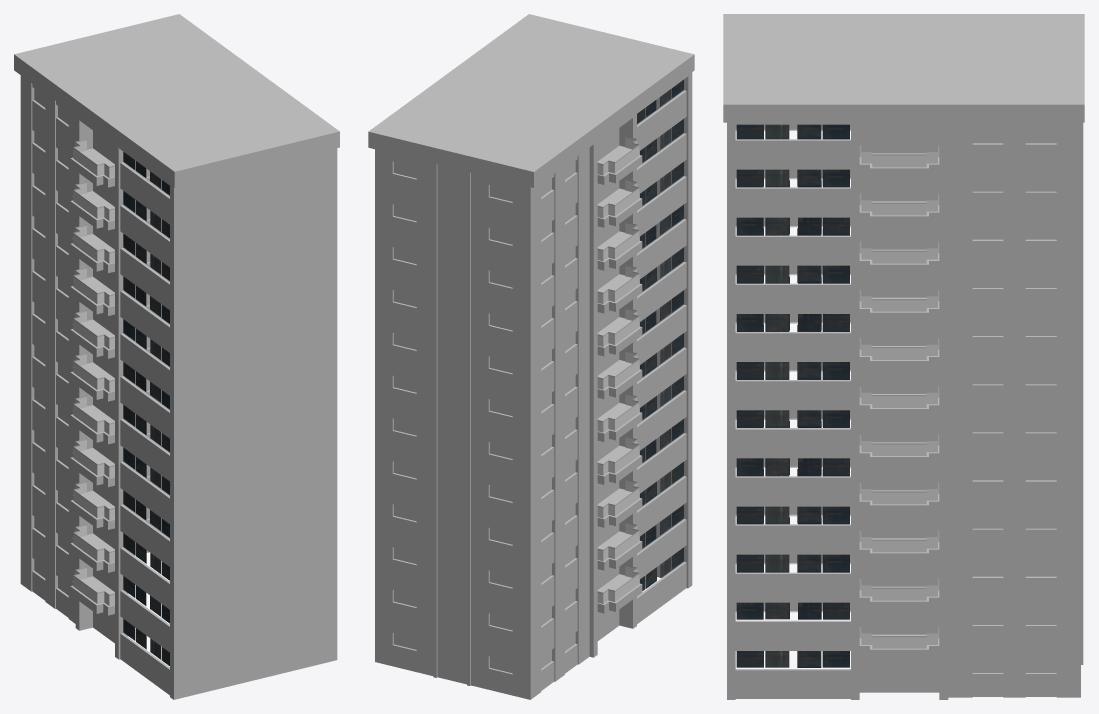
The picture shows the model from 3 angles, left to right: view 1: azimuth 30°, elevation 25°; view 2: azimuth 150°, elevation 25°; view 3: azimuth 270°, elevation 25°; orthographic projection. The views are drawn at different scales.
Visible parts, largest first — view 1: BR-032; view 2: BR-032; view 3: BR-032.
Part boxes in pixels (bbox=[...]): BR-032: bbox=[14, 14, 339, 699]; BR-032: bbox=[368, 14, 694, 699]; BR-032: bbox=[723, 14, 1084, 699].
Size of what is drawn, in the model's own units: 14 by 37.12 by 20.39.
